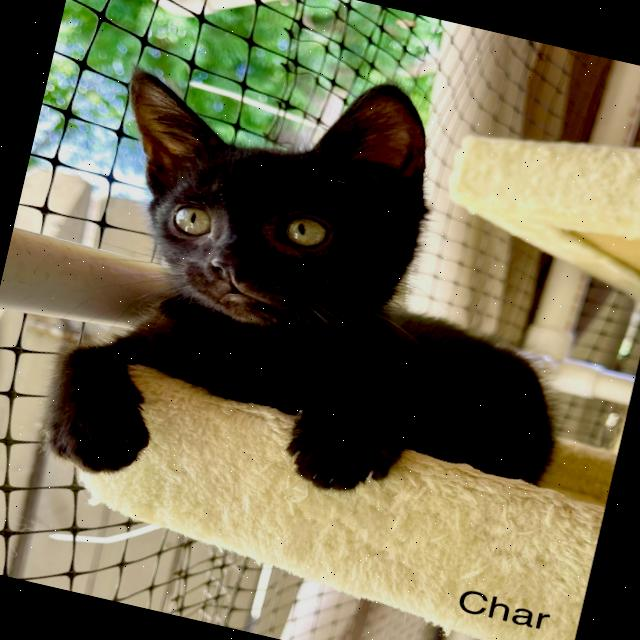bombay_cat: (72, 19, 460, 370)
